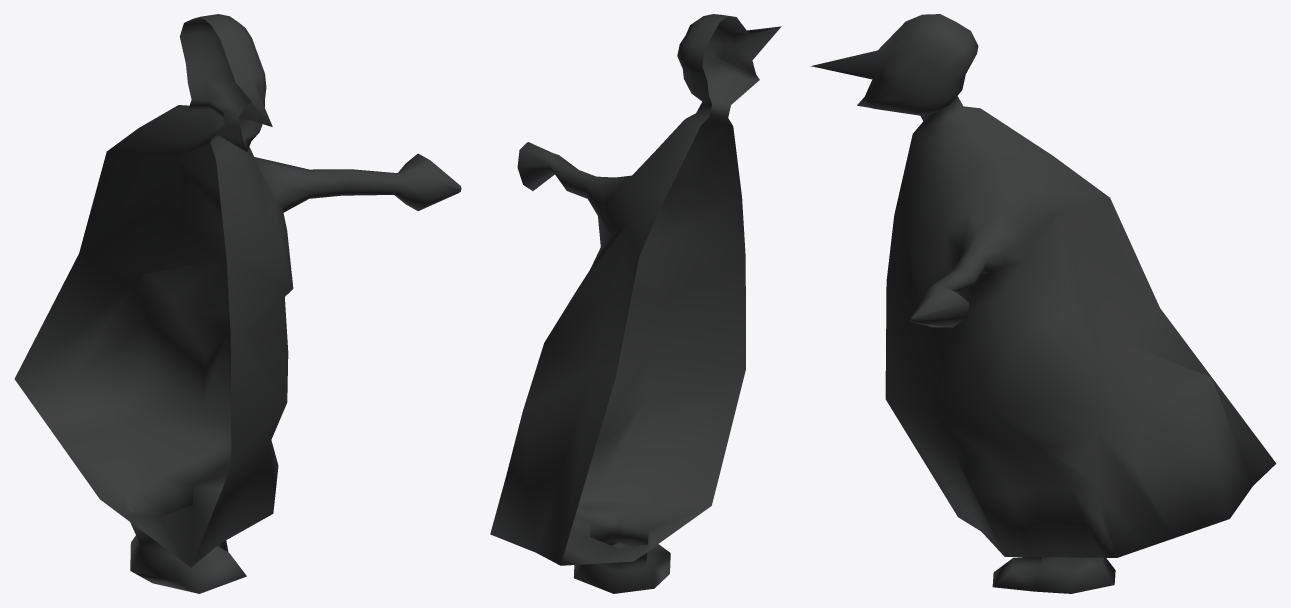
The model's file is thief.gltf.
The picture shows the model from 3 angles, left to right: view 1: azimuth 30°, elevation 25°; view 2: azimuth 150°, elevation 25°; view 3: azimuth 270°, elevation 25°; orthographic projection. The views are drawn at different scales.
Parts seen in each view (by area): view 1: Sphere; view 2: Sphere; view 3: Sphere.
Boxes of the visible parts, bbox=[...] form: Sphere: bbox=[14, 14, 461, 593]; Sphere: bbox=[490, 14, 781, 593]; Sphere: bbox=[810, 14, 1276, 593].
Bounding box in the file's own units: 1.09 × 2.6 × 2.
1 material, 1 textured.
